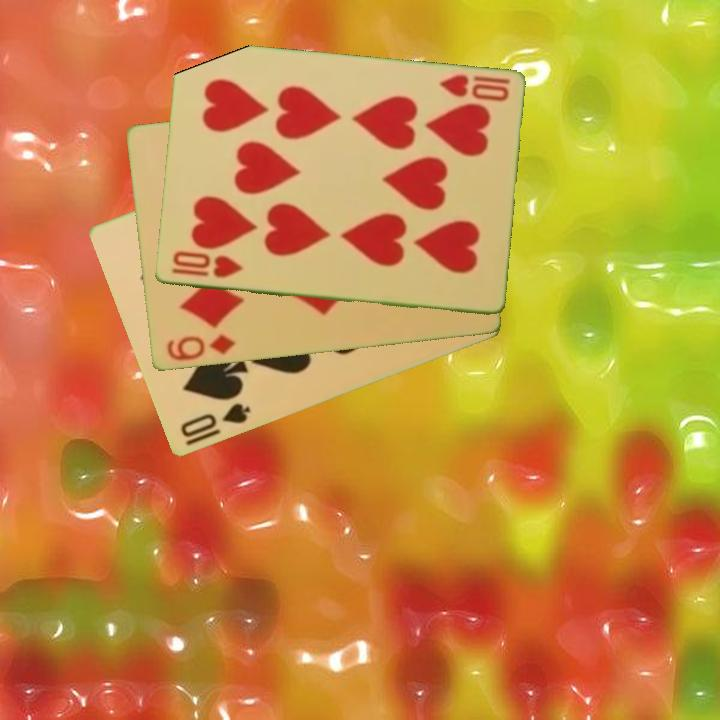10h: (435, 71, 513, 105), (167, 249, 245, 281)
10s: (176, 400, 253, 441)
6d: (163, 331, 238, 364)
